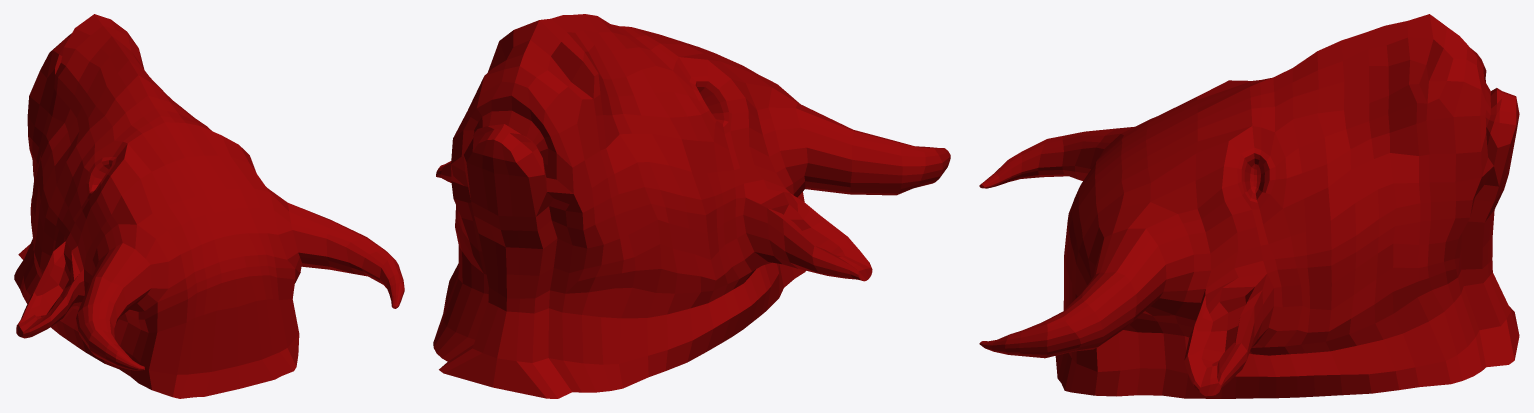
File: bison2.gltf
3 views of the same model, side by side, from view 1: azimuth 30°, elevation 25°; view 2: azimuth 150°, elevation 25°; view 3: azimuth 270°, elevation 25° (orthographic). The views are drawn at different scales.
Visible parts, largest first — view 1: Plane; view 2: Plane; view 3: Plane.
Part boxes in pixels (left/top/right/bottom): Plane: left=14, top=14, right=404, bottom=398; Plane: left=433, top=14, right=950, bottom=398; Plane: left=979, top=14, right=1519, bottom=398.
Size of the model in its own units: 3.55 by 2.81 by 4.01.
